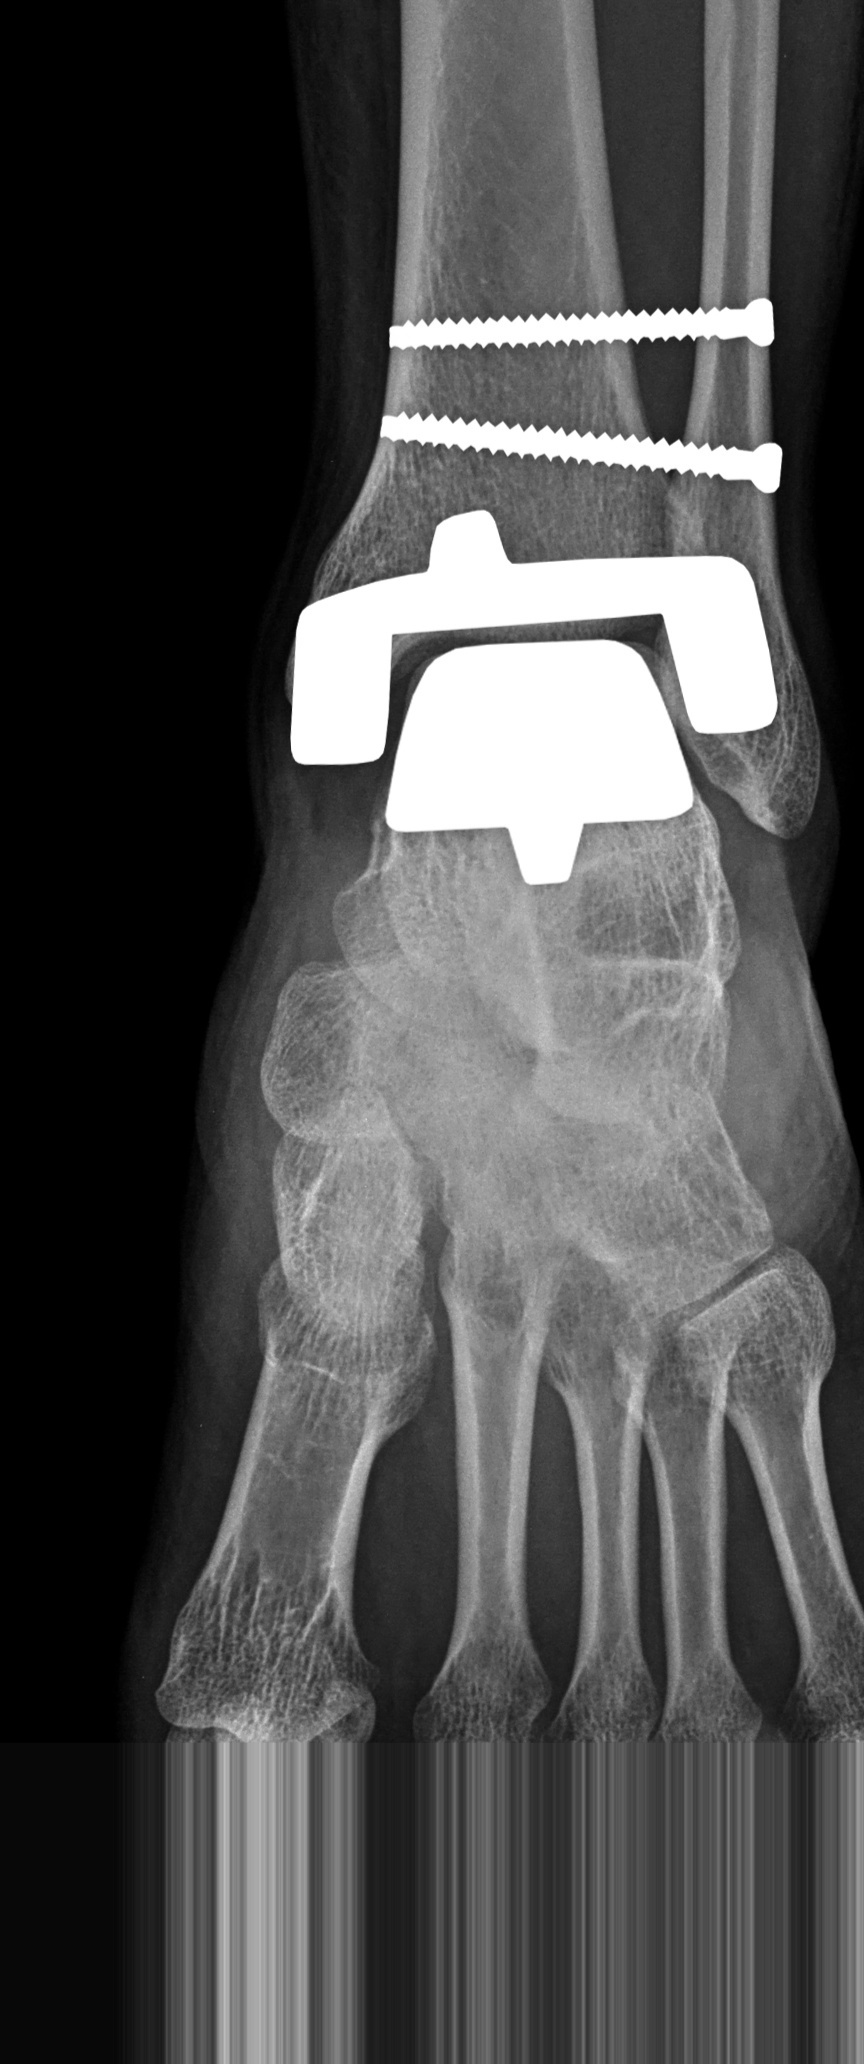Ankle - Agility - DePuy: (254, 295, 796, 908)
